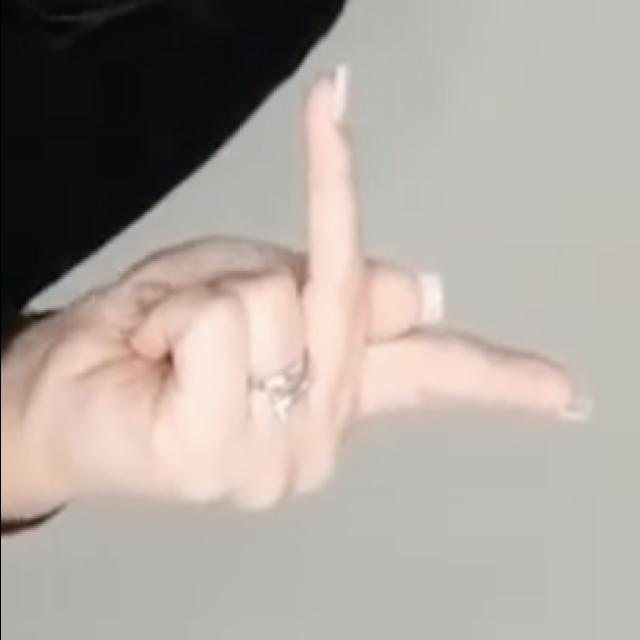P: (43, 64, 613, 527)
